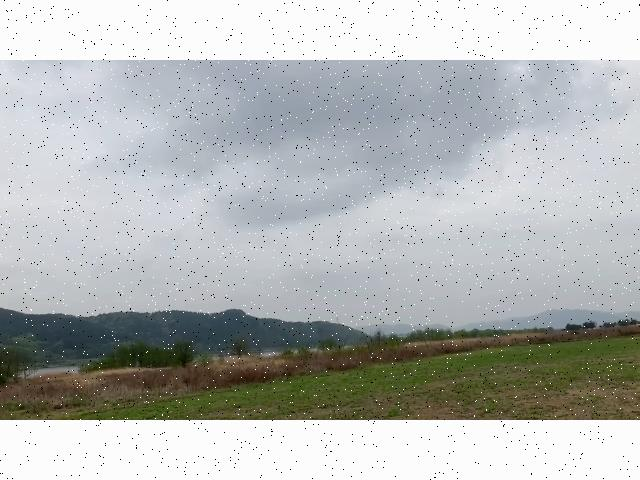Anti-Drone: (369, 244, 379, 252)
